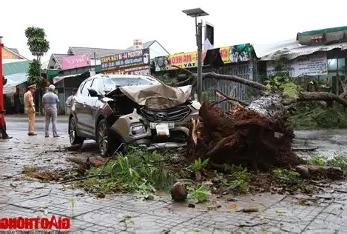ROAD_OBSTACLE: (87, 65, 342, 205)
